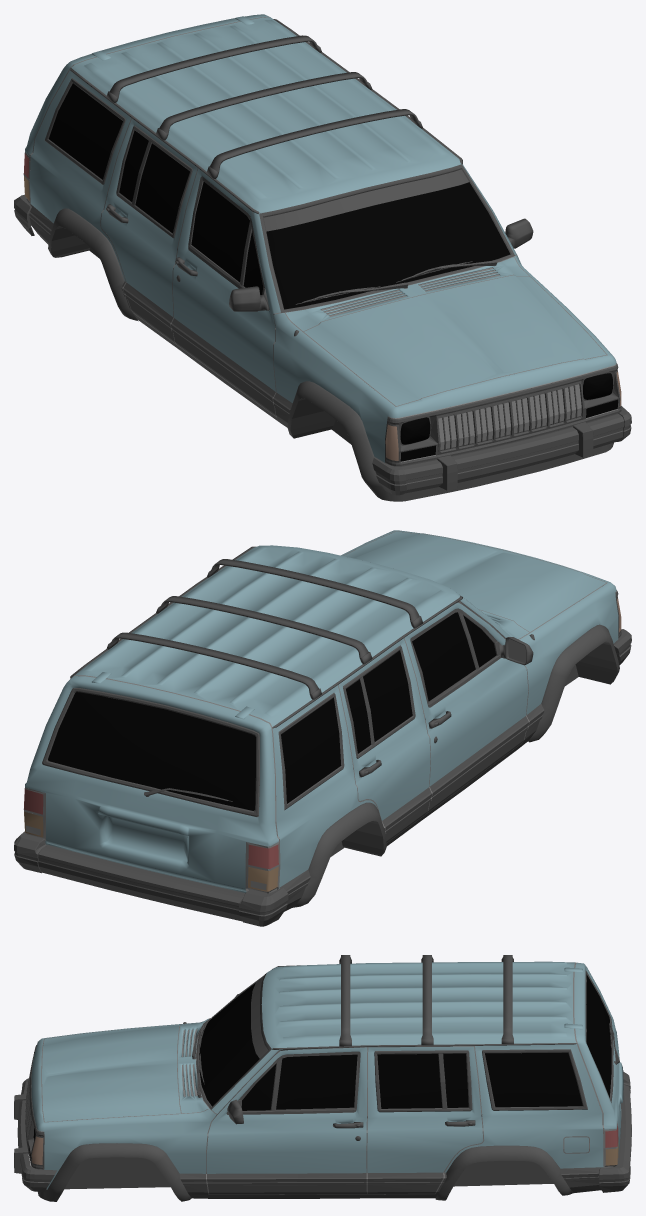
3 renders of one model, top to bottom at view 1: azimuth 30°, elevation 25°; view 2: azimuth 150°, elevation 25°; view 3: azimuth 270°, elevation 25°, orthographic. The views are drawn at different scales.
Parts seen in each view (by area): view 1: cherokee02, cherokee24, cherokee03, cherokee20, cherokee04, cherokee26, cherokee08, cherokee01, Radiator, cherokee05, cherokee25, cherokee23 (+3 smaller); view 2: cherokee02, cherokee24, cherokee03, cherokee26, cherokee08, cherokee04, cherokee01, cherokee23, cherokee05, cherokee17, cherokee16; view 3: cherokee02, cherokee24, cherokee03, cherokee26, cherokee04, cherokee23, cherokee01, cherokee08, cherokee05, cherokee20, cherokee25, cherokee06.
Boxes of the visible parts, <box> form: cherokee02: <box>25,14,616,462</box>; cherokee24: <box>49,83,510,309</box>; cherokee03: <box>14,194,631,495</box>; cherokee20: <box>385,364,621,466</box>; cherokee04: <box>48,208,613,501</box>; cherokee26: <box>44,78,514,312</box>; cherokee08: <box>109,35,419,281</box>; cherokee01: <box>23,16,620,466</box>; Radiator: <box>438,384,581,449</box>; cherokee05: <box>70,19,533,336</box>; cherokee25: <box>263,169,468,231</box>; cherokee23: <box>51,226,351,444</box>; cherokee02: <box>25,530,618,892</box>; cherokee24: <box>48,612,496,810</box>; cherokee03: <box>14,629,631,926</box>; cherokee26: <box>42,595,501,816</box>; cherokee08: <box>109,559,437,743</box>; cherokee04: <box>292,624,619,907</box>; cherokee01: <box>23,531,620,893</box>; cherokee23: <box>330,641,617,856</box>; cherokee05: <box>70,546,534,777</box>; cherokee17: <box>24,788,278,868</box>; cherokee16: <box>24,811,278,891</box>; cherokee02: <box>31,961,623,1189</box>; cherokee24: <box>199,974,611,1110</box>; cherokee03: <box>14,1071,631,1198</box>; cherokee26: <box>196,970,613,1114</box>; cherokee04: <box>38,1143,572,1201</box>; cherokee23: <box>44,1144,553,1194</box>; cherokee01: <box>31,962,618,1194</box>; cherokee08: <box>339,955,513,1140</box>; cherokee05: <box>183,960,576,1128</box>; cherokee20: <box>25,1045,44,1169</box>; cherokee25: <box>251,976,268,1058</box>; cherokee06: <box>192,1019,619,1097</box>.
Bounding box in the file's own units: 1.82 × 1.21 × 4.05.
